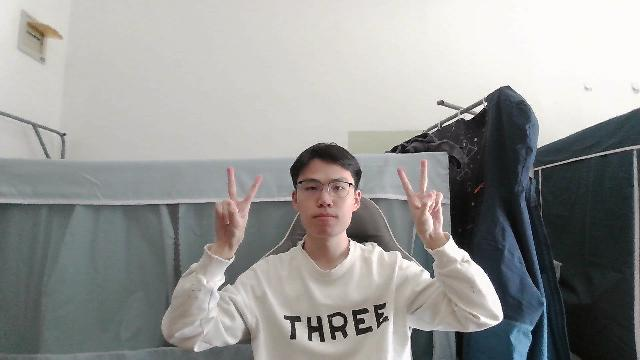yes: (211, 166, 263, 250), (397, 158, 444, 240)
